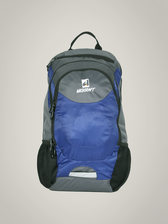bag: (34, 30, 136, 197)
